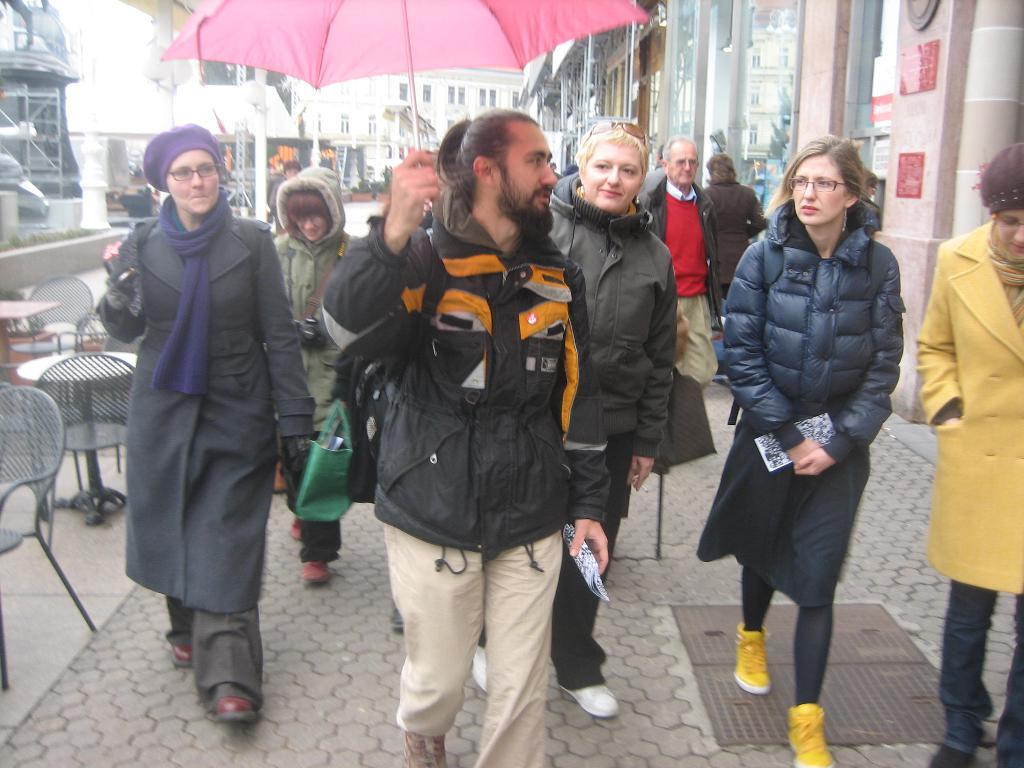umbrella: (152, 0, 665, 208)
